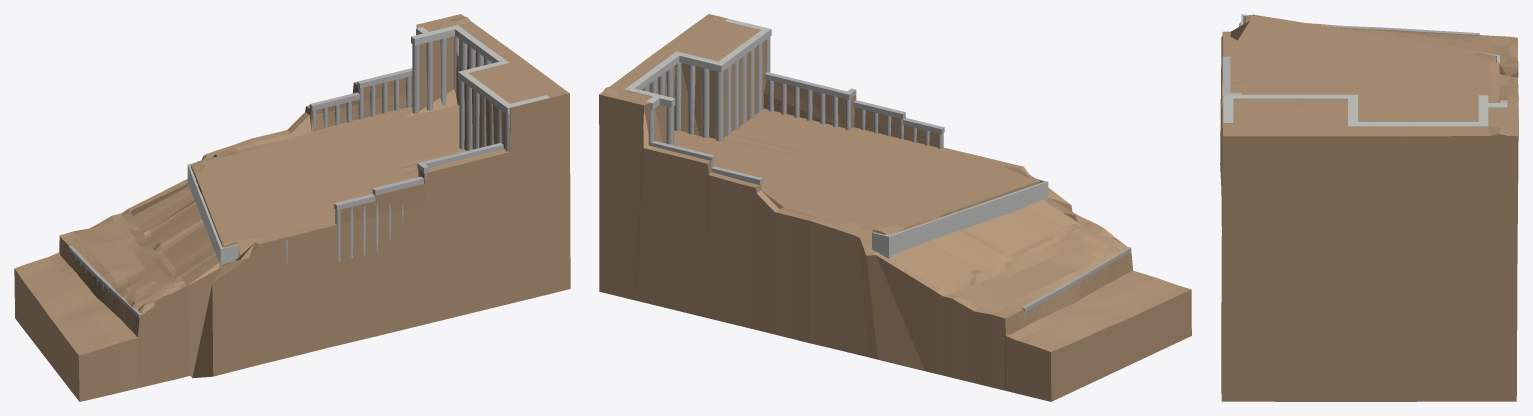
File: cb2_spw4.glb
3 renders of one model, left to right at view 1: azimuth 30°, elevation 25°; view 2: azimuth 150°, elevation 25°; view 3: azimuth 270°, elevation 25°, orthographic. The views are drawn at different scales.
Visible parts, largest first — view 1: Terrain 07 - SPW2+3.003, Retaining wall.001, CB1-RL9.011, CB2-RL13.50.01, CB2-RL13.50.03, Cylinder.1017, Cube.145, CB2-RL13.50.04; view 2: Terrain 07 - SPW2+3.003, Retaining wall.001, CB1-RL9.011, CB2-RL13.50.01, Cube.145, CB2-RL13.50.03, Cylinder.1022, Cylinder.1021; view 3: Terrain 07 - SPW2+3.003, CB2-RL13.50.01, CB2-RL13.50.03, Cube.145, CB2-RL13.50.04, CB2-RL13.50.02, CB2-RL13.50.06.
Boxes of the visible parts, x1,y1,x2,y2 form: Terrain 07 - SPW2+3.003: [14, 14, 570, 401]; Retaining wall.001: [187, 162, 238, 267]; CB1-RL9.011: [417, 143, 503, 172]; CB2-RL13.50.01: [458, 71, 513, 114]; CB2-RL13.50.03: [453, 25, 507, 63]; Cylinder.1017: [412, 44, 419, 113]; Cube.145: [68, 245, 142, 317]; CB2-RL13.50.04: [411, 25, 460, 45]; Terrain 07 - SPW2+3.003: [599, 14, 1191, 401]; Retaining wall.001: [872, 179, 1048, 256]; CB1-RL9.011: [764, 72, 856, 99]; CB2-RL13.50.01: [715, 27, 771, 72]; Cube.145: [1022, 247, 1131, 311]; CB2-RL13.50.03: [625, 51, 680, 90]; Cylinder.1022: [716, 71, 723, 141]; Cylinder.1021: [702, 68, 709, 137]; Terrain 07 - SPW2+3.003: [1220, 14, 1518, 401]; CB2-RL13.50.01: [1223, 94, 1357, 99]; CB2-RL13.50.03: [1348, 122, 1487, 126]; Cube.145: [1240, 22, 1479, 35]; CB2-RL13.50.04: [1478, 95, 1488, 126]; CB2-RL13.50.02: [1348, 94, 1357, 125]; CB2-RL13.50.06: [1223, 96, 1233, 123].
Bounding box in the file's own units: 45.82 × 17.8 × 17.99.
